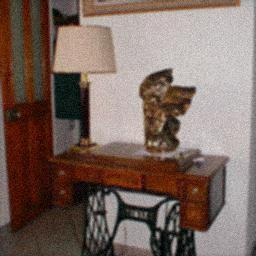Puerta: (9, 2, 50, 234)
